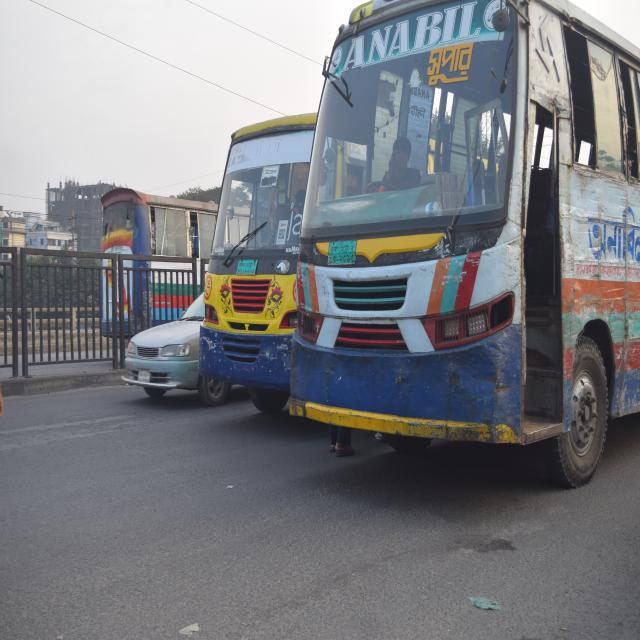bus: (285, 0, 639, 484), (200, 108, 317, 415)
car: (114, 288, 210, 407)
